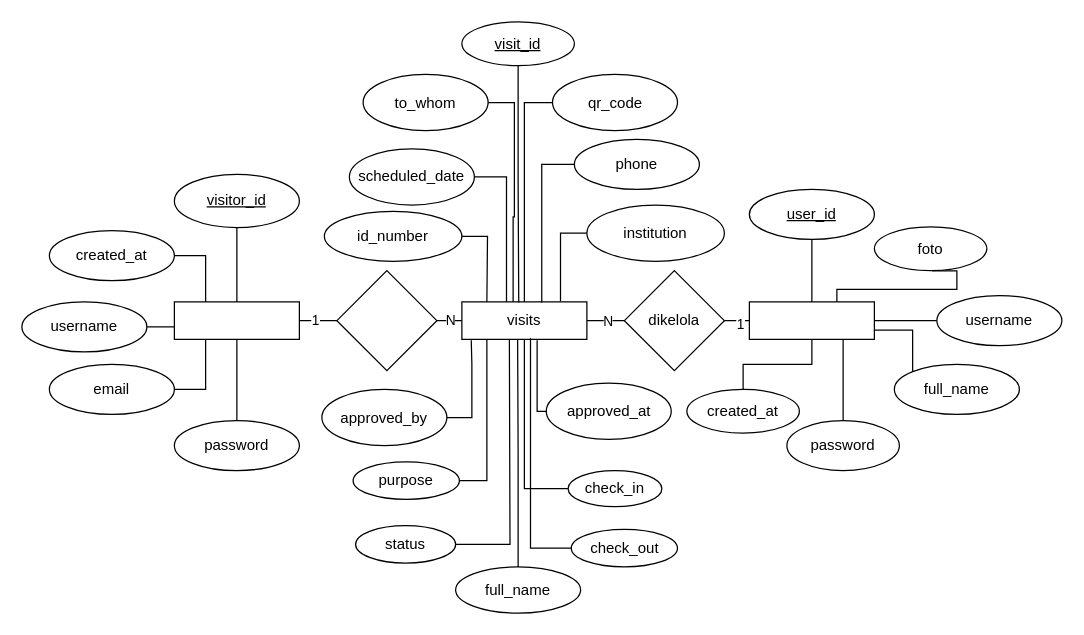
Image size: 1084x635. Some labels were removed from this diagram. The centre of each missing label's shape, as x and y in pixels:
melakukan: the point at 386,320
Resepsionis/ admin: the point at 811,320
Tamu: the point at 236,320
